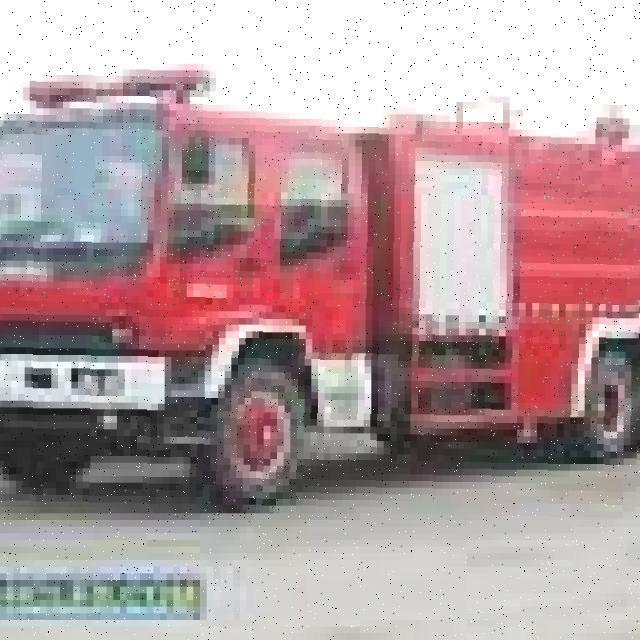pompier: (0, 24, 640, 515)
